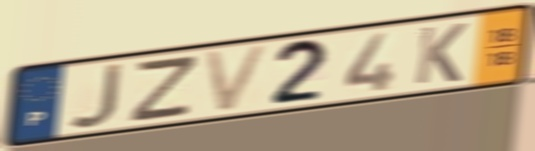2: (267, 35, 336, 111)
4: (341, 29, 397, 93)
J: (66, 60, 126, 131)
K: (411, 21, 470, 87)
V: (201, 41, 274, 116)
Z: (125, 52, 203, 125)
